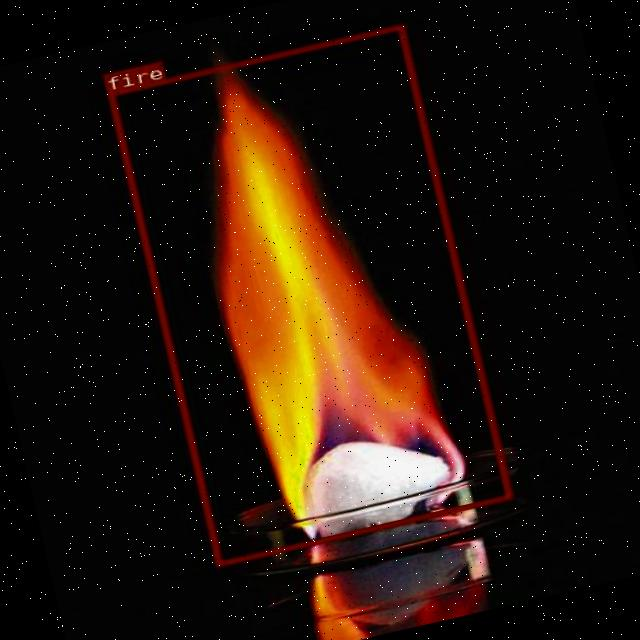fire: (106, 22, 512, 566)
